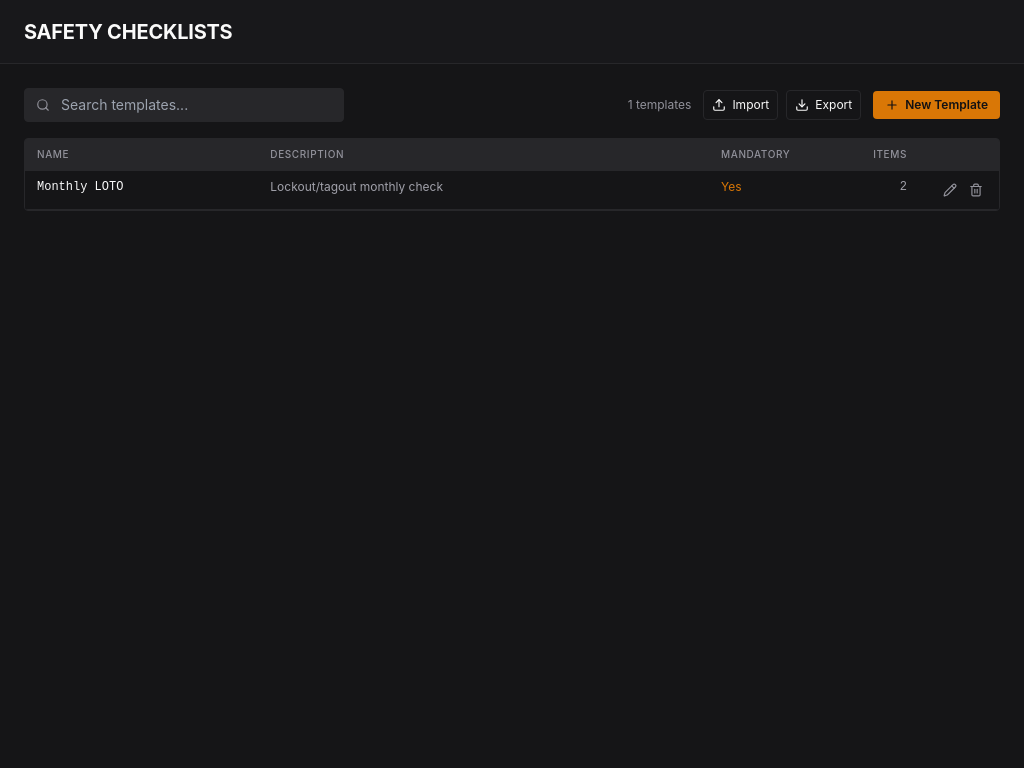
SafetyChecklistsPage template management (tracker v1.1-17) › edits a template, prefilling name, flag and items with their itemIds
This screenshot has width=1024, height=768.
Click the button named "edit template monthly loto" at (950, 190), box [939,179,961,201]
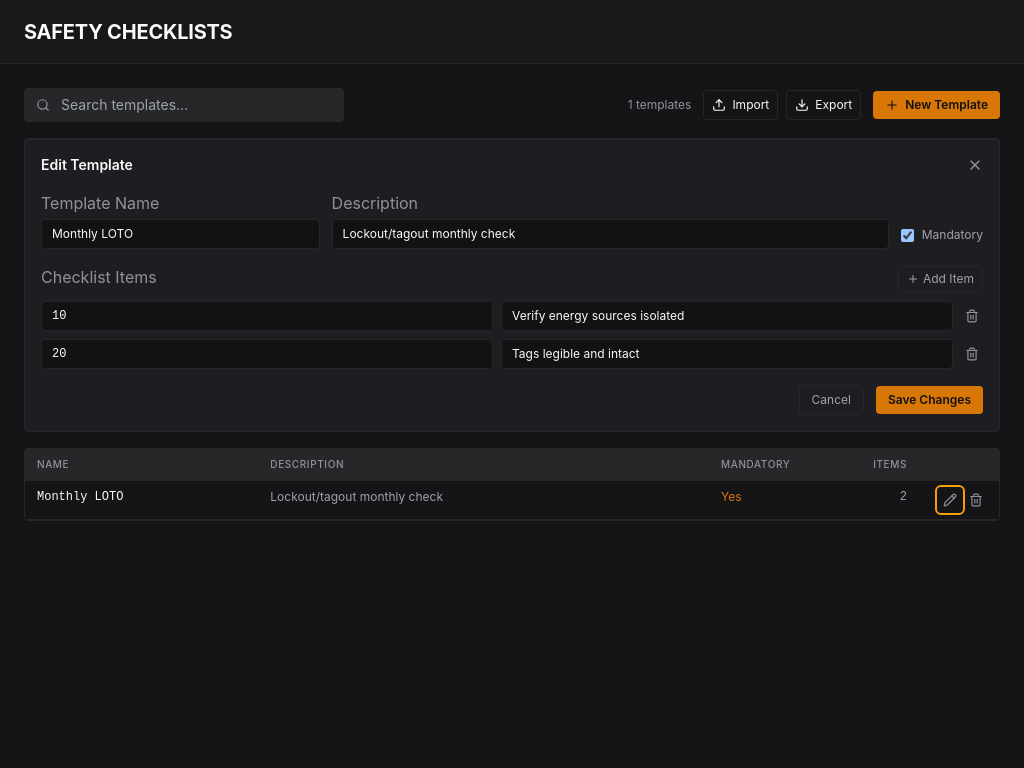
Check: the field labelled "Template Name" holds "Monthly LOTO", box [41,219,320,249]
Check: the field labelled "Description" holds "Lockout/tagout monthly check"
Check: the checkbox named "Mandatory checklist" is checked, box [901,228,914,242]
Replace the text in the field labelled "Description" with "Lockout/tagout check (revised)" at (610, 234), box [332,219,889,249]
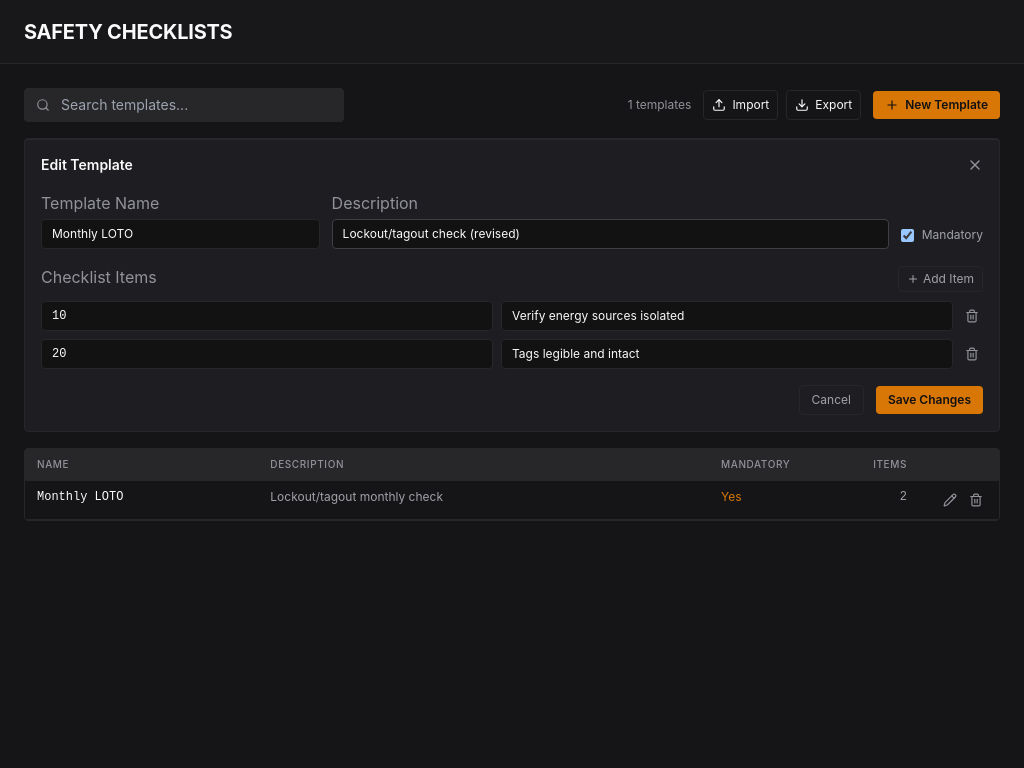
Click the button "Save Changes" at (929, 400), box [876,386,983,414]
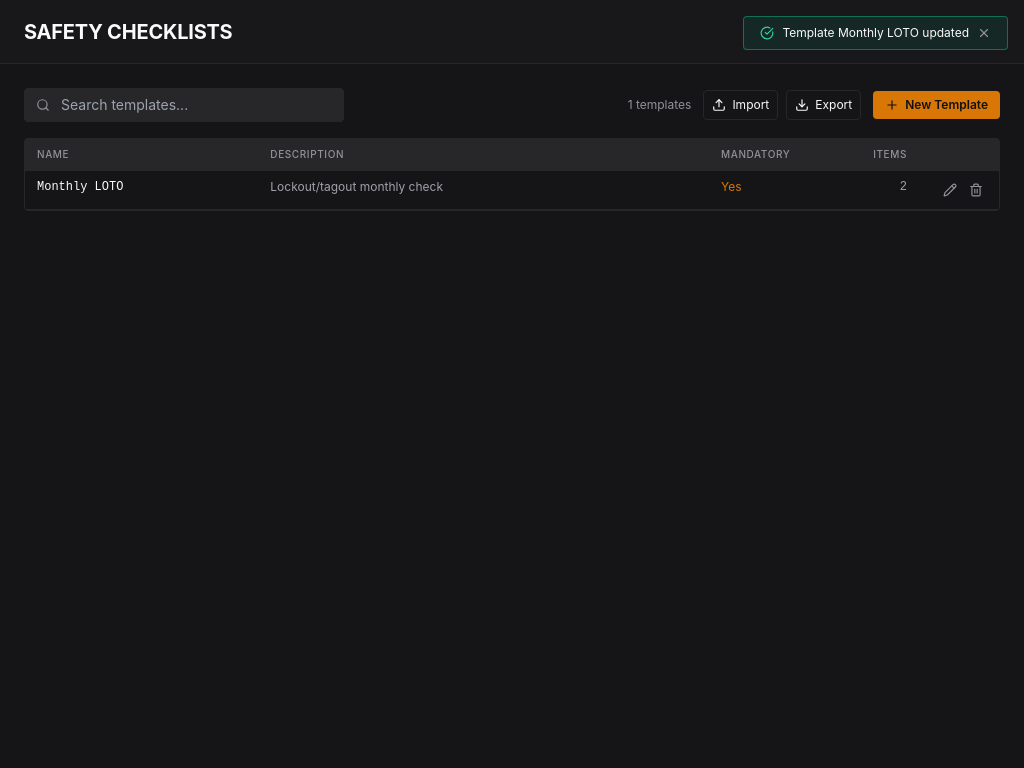
Check: the text "Template Monthly LOTO updated" is shown, box [782,25,969,41]
